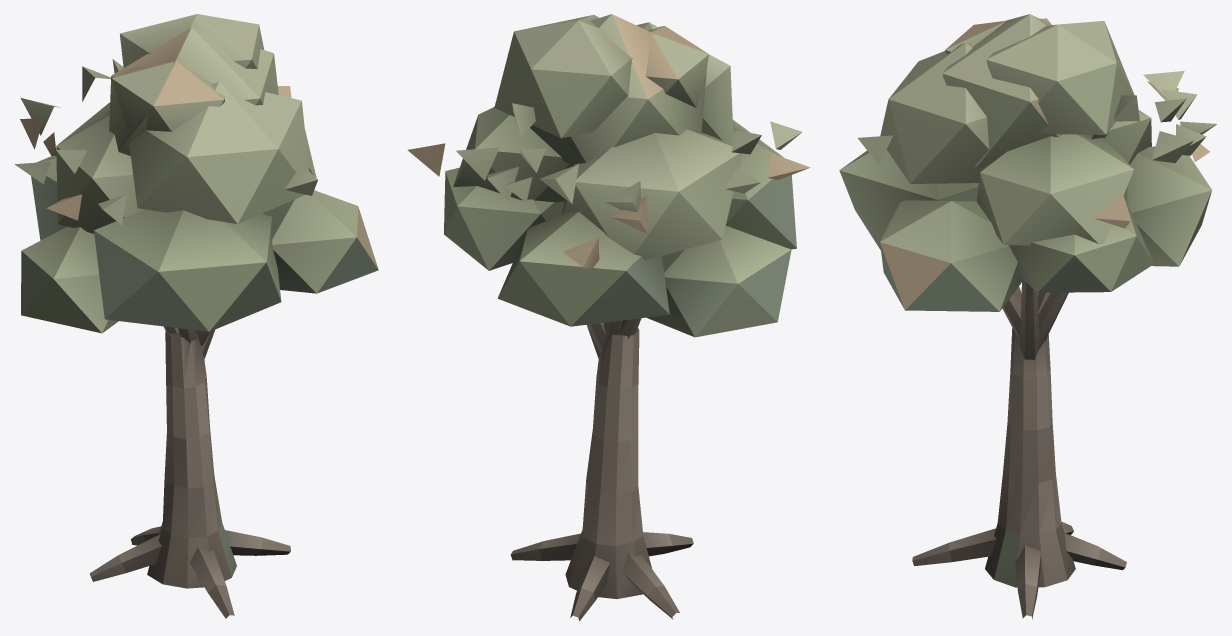
The model's file is maple.glb.
3 views of the same model, side by side, from view 1: azimuth 30°, elevation 25°; view 2: azimuth 150°, elevation 25°; view 3: azimuth 270°, elevation 25° (orthographic). The views are drawn at different scales.
Bounding box in the file's own units: 3.53 × 5.87 × 3.59.
